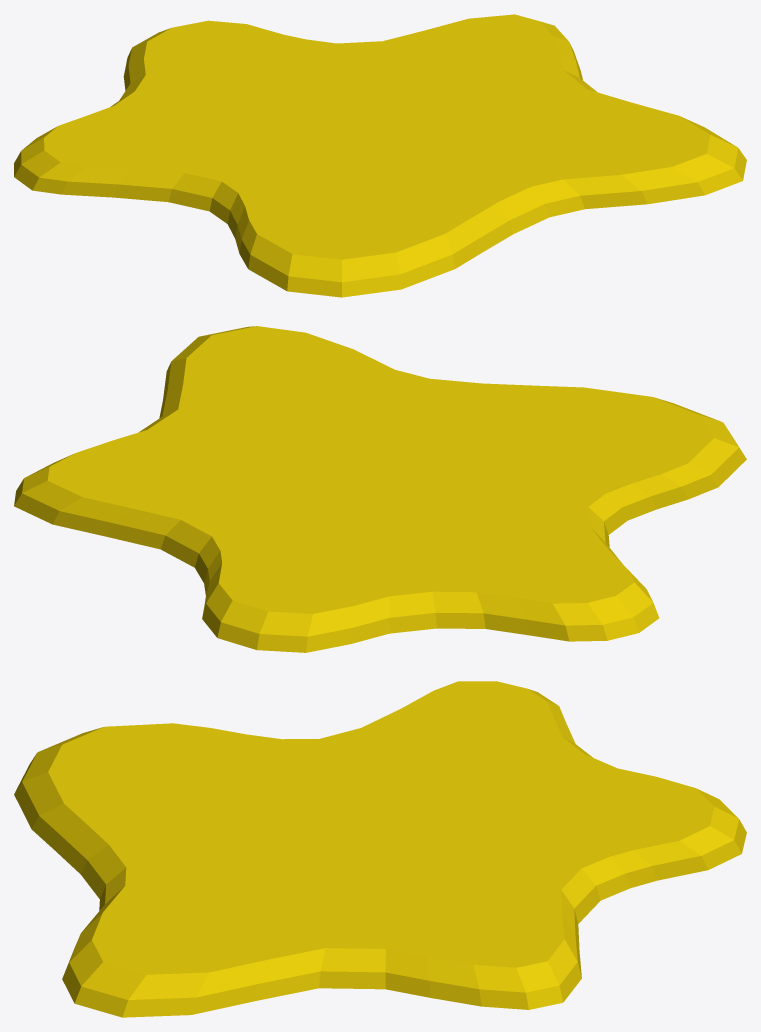
File: Mancha.fbx
3 views of the same model, one above another, from view 1: azimuth 30°, elevation 25°; view 2: azimuth 150°, elevation 25°; view 3: azimuth 270°, elevation 25° (orthographic). The views are drawn at different scales.
Parts seen in each view (by area): view 1: Mancha; view 2: Mancha; view 3: Mancha.
Part boxes in pixels (x1=…): Mancha: x1=14, y1=14, x2=746, y2=297; Mancha: x1=14, y1=326, x2=746, y2=652; Mancha: x1=14, y1=681, x2=746, y2=1017.
Size of the model in its own units: 124 by 5.17 by 119.
